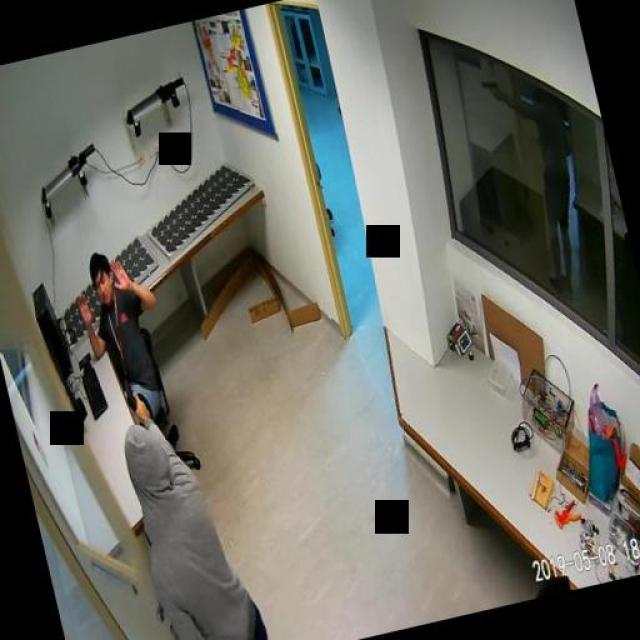gun: (119, 372, 149, 422)
